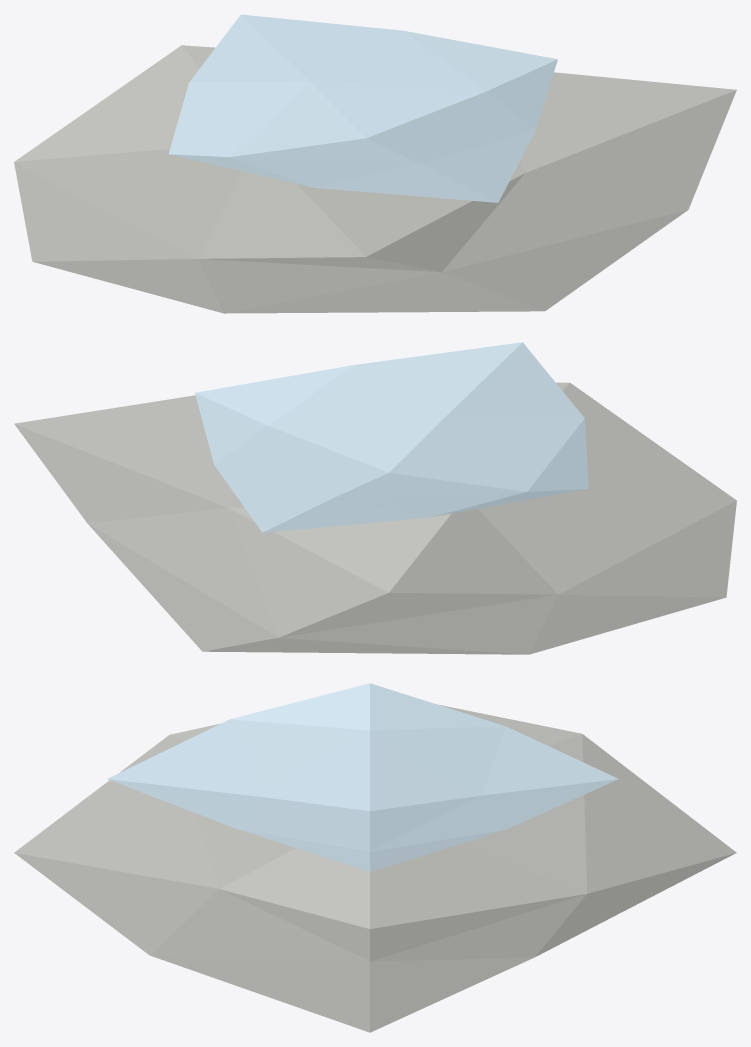
Rendered from puddle_stone_v41.glb.
3 views of the same model, one above another, from view 1: azimuth 30°, elevation 25°; view 2: azimuth 150°, elevation 25°; view 3: azimuth 270°, elevation 25° (orthographic).
Visible parts, largest first — view 1: lod0; view 2: lod0; view 3: lod0.
Boxes of the visible parts, x1,y1,x2,y2 form: lod0: (14, 14, 736, 313); lod0: (14, 342, 736, 654); lod0: (14, 683, 736, 1032).
Size of what is drawn, in the model's own units: 0.6957 by 0.1699 by 0.6217.
